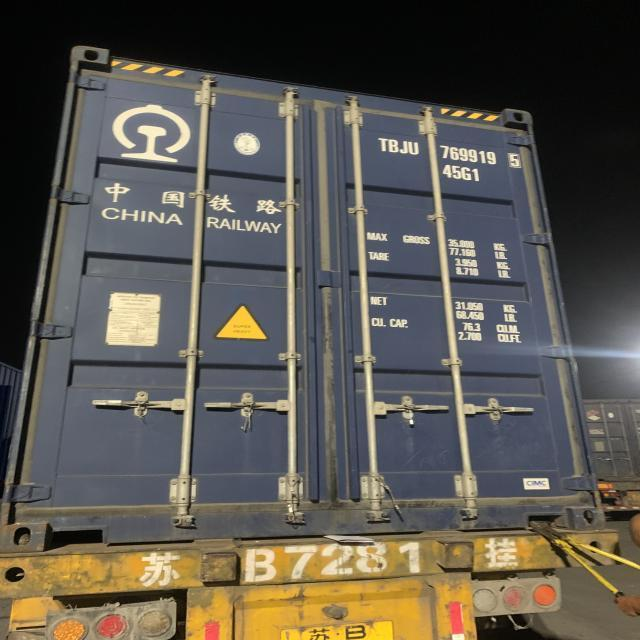ISO: (442, 163, 482, 183)
container_number: (379, 138, 522, 164)
